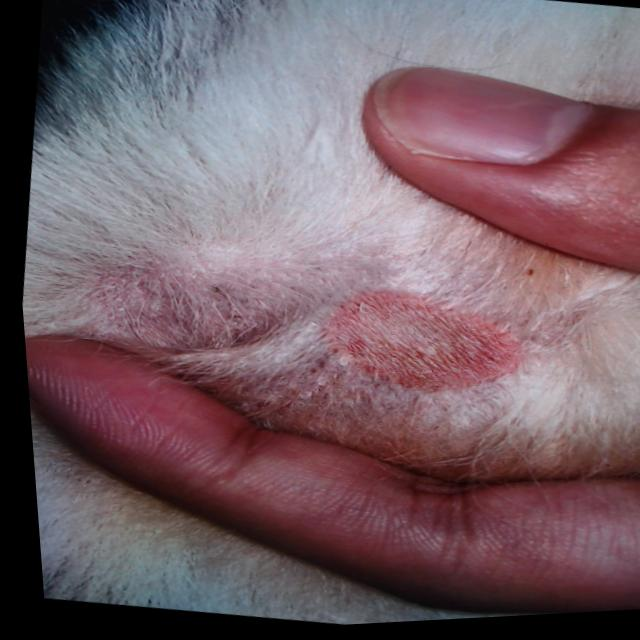ringworm: (297, 268, 580, 426)
